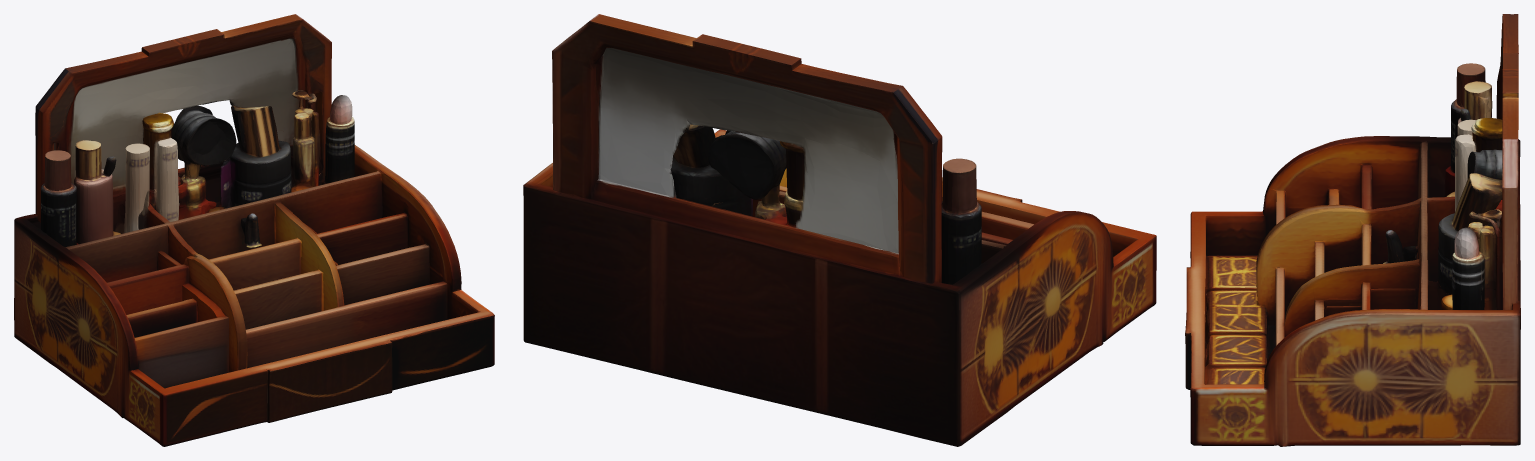
File: wooden-makeup-organizer-art-deco.jpeg.glb
The picture shows the model from 3 angles, left to right: view 1: azimuth 30°, elevation 25°; view 2: azimuth 150°, elevation 25°; view 3: azimuth 270°, elevation 25°; orthographic projection. The views are drawn at different scales.
Parts seen in each view (by area): view 1: world; view 2: world; view 3: world.
Part boxes in pixels (x1,y1,x2,y2): world: [14, 14, 494, 446]; world: [523, 14, 1156, 446]; world: [1185, 14, 1520, 446].
Bounding box in the file's own units: 1 × 0.7603 × 0.8004.
1 material, 1 textured.
